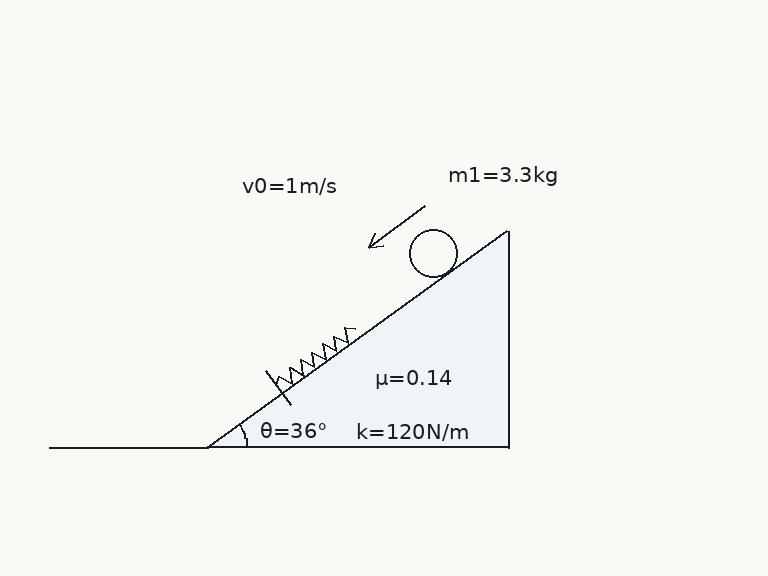ball: (407, 227, 459, 279)
ramp: (205, 227, 509, 449)
spring: (275, 325, 357, 387)
